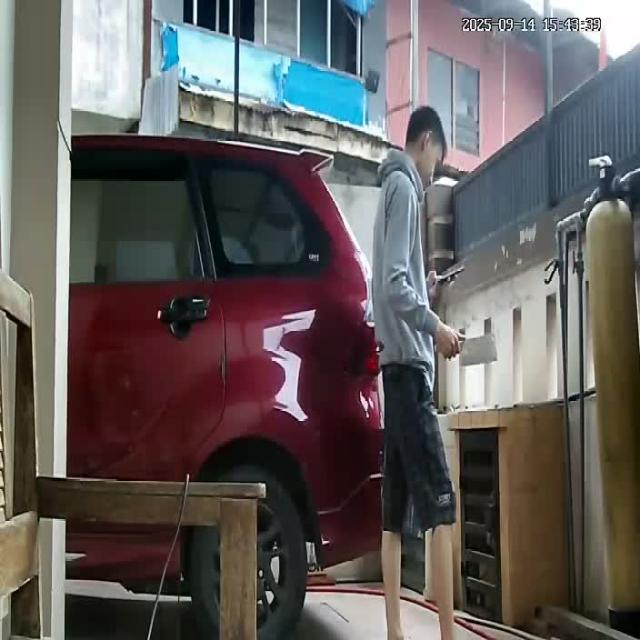senjata_tajam: (457, 334, 499, 369)
